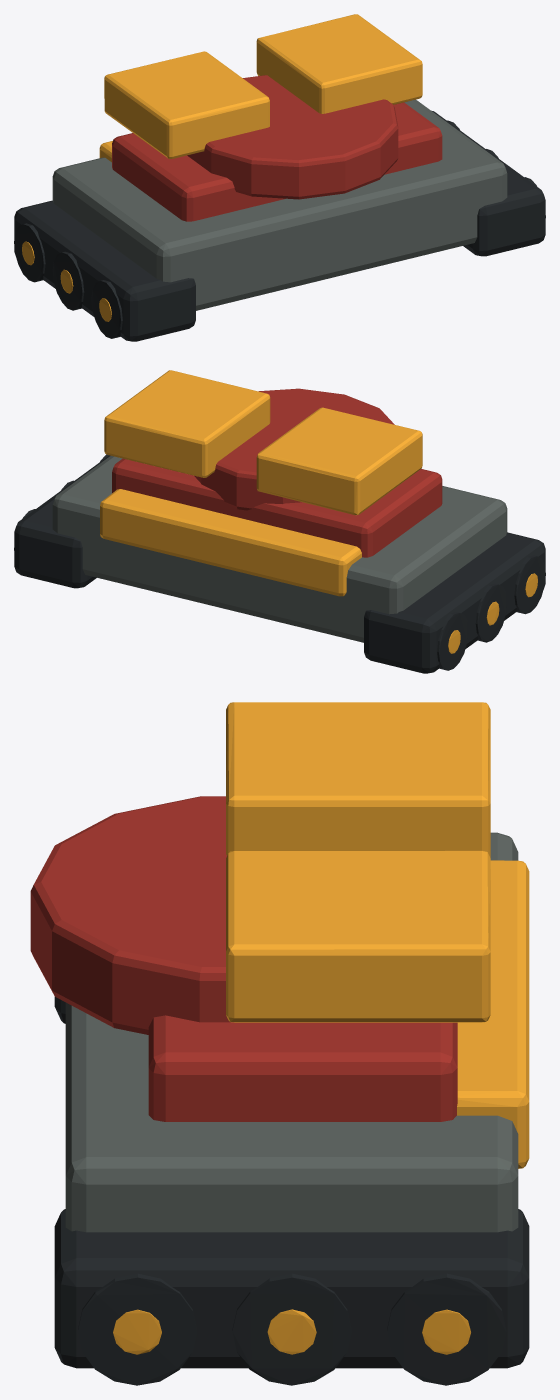
File: SM_Soviet_SU_ZarevoMLRS_LOD1.fbx
3 views of the same model, one above another, from view 1: azimuth 30°, elevation 25°; view 2: azimuth 150°, elevation 25°; view 3: azimuth 270°, elevation 25° (orthographic). The views are drawn at different scales.
Visible parts, largest first — view 1: LOD01_SM_Soviet_SU_ZarevoMLRS; view 2: LOD01_SM_Soviet_SU_ZarevoMLRS; view 3: LOD01_SM_Soviet_SU_ZarevoMLRS.
Boxes of the visible parts, <box> form: LOD01_SM_Soviet_SU_ZarevoMLRS: <box>14,14,545,341</box>; LOD01_SM_Soviet_SU_ZarevoMLRS: <box>14,370,545,673</box>; LOD01_SM_Soviet_SU_ZarevoMLRS: <box>30,702,529,1385</box>.
Size of the model in its own units: 572 by 289 by 227.
